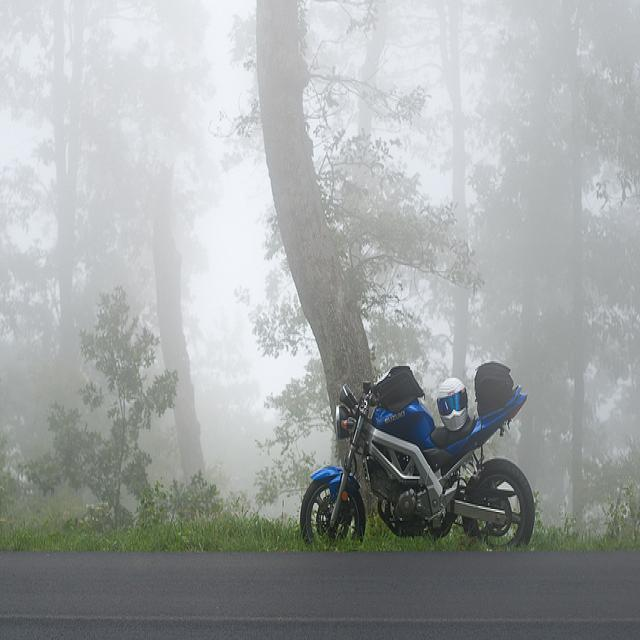motor: (300, 362, 536, 548)
